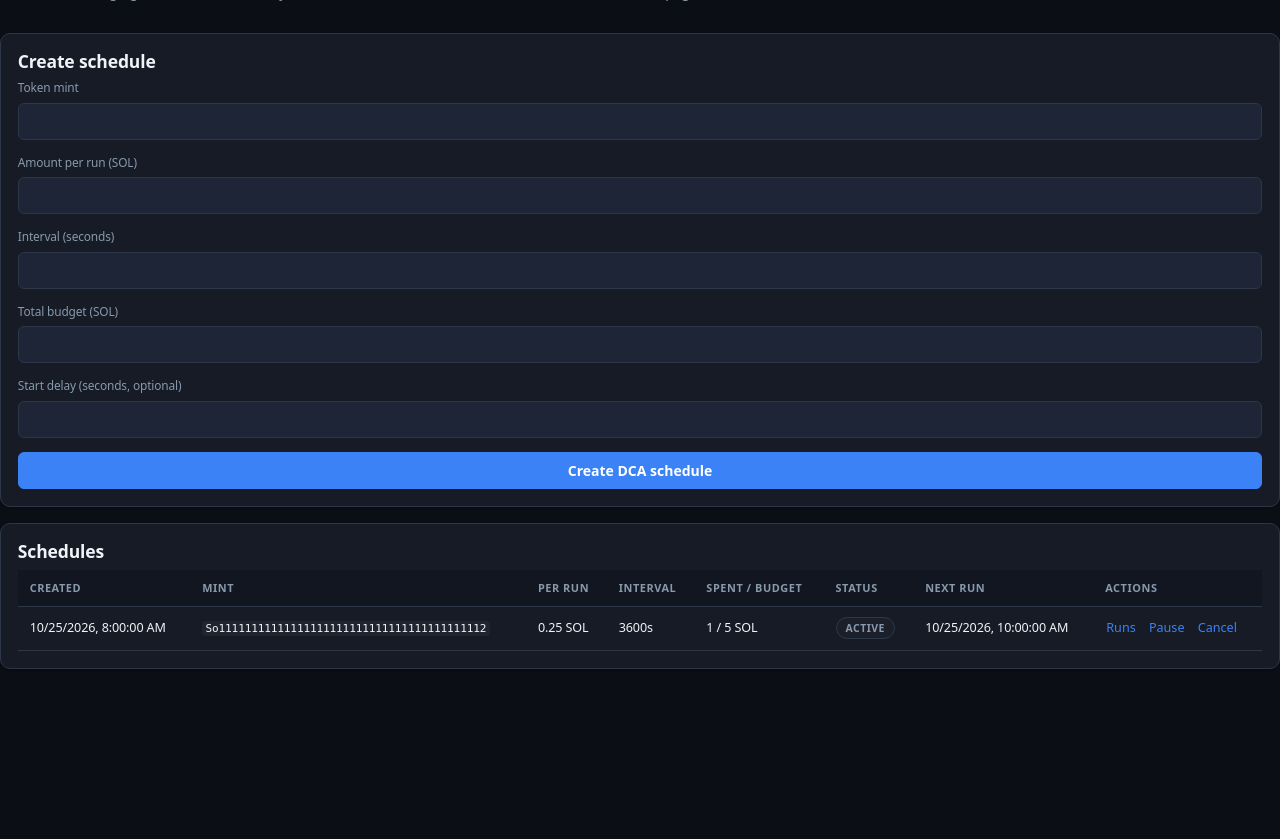
Test: DCA schedules › page loads schedules, refetches after pause, and loads run history
Expected: the text "So11111111111111111111111111111111111111112" is shown, [202, 621, 490, 636]
Click the button "Pause" at (1167, 628), box [1148, 618, 1186, 639]
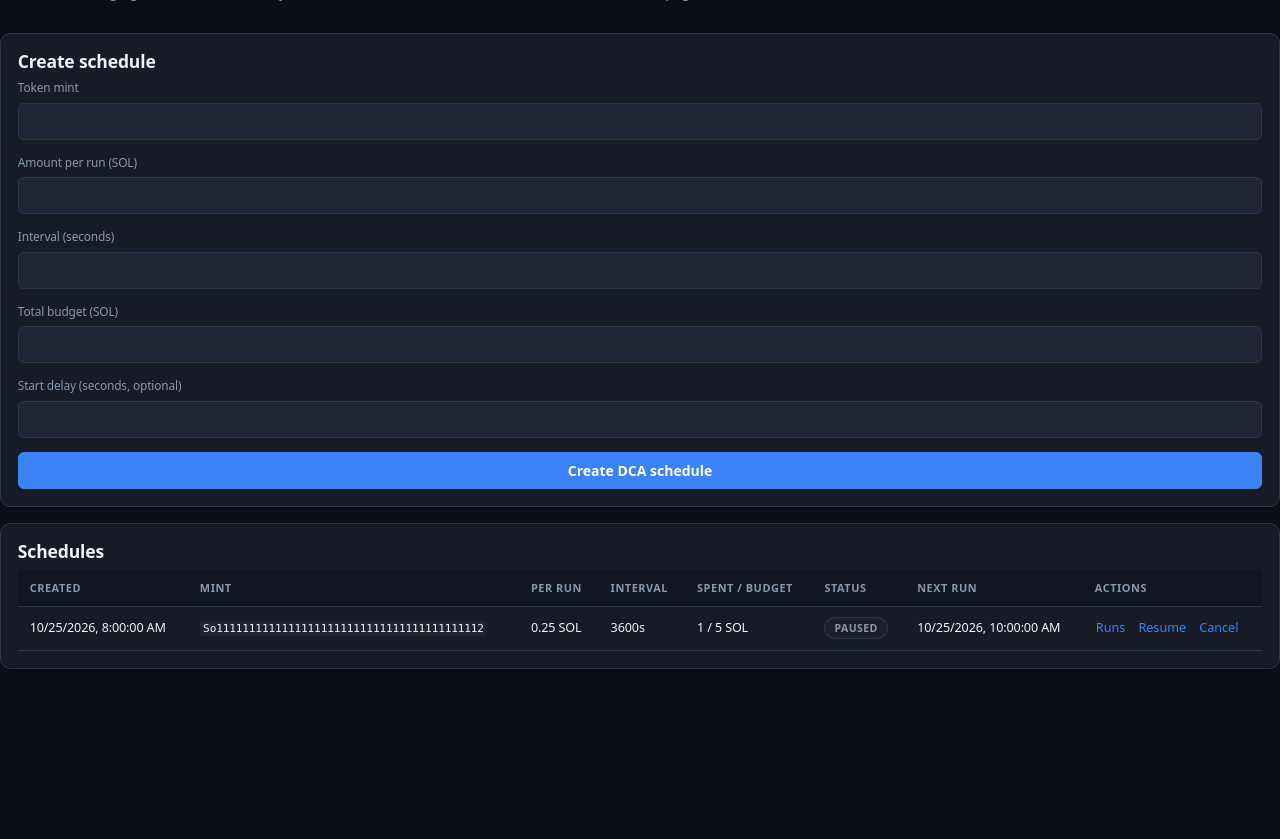
Expected: the text "paused" is shown, [824, 618, 888, 639]
Click the button "Runs" at (1110, 628), box [1095, 618, 1126, 639]
(page scrolled)
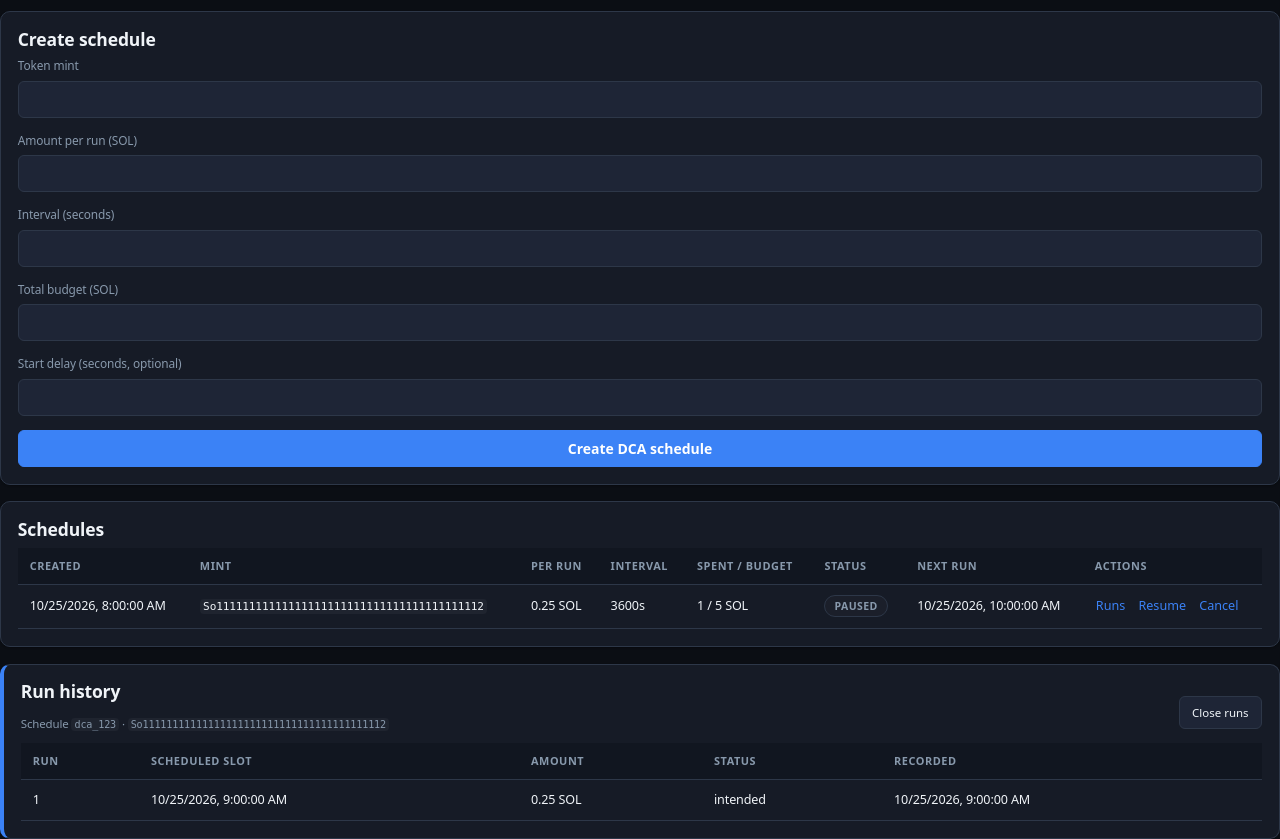
Expected: the text "intended" is shown, [702, 780, 882, 821]
